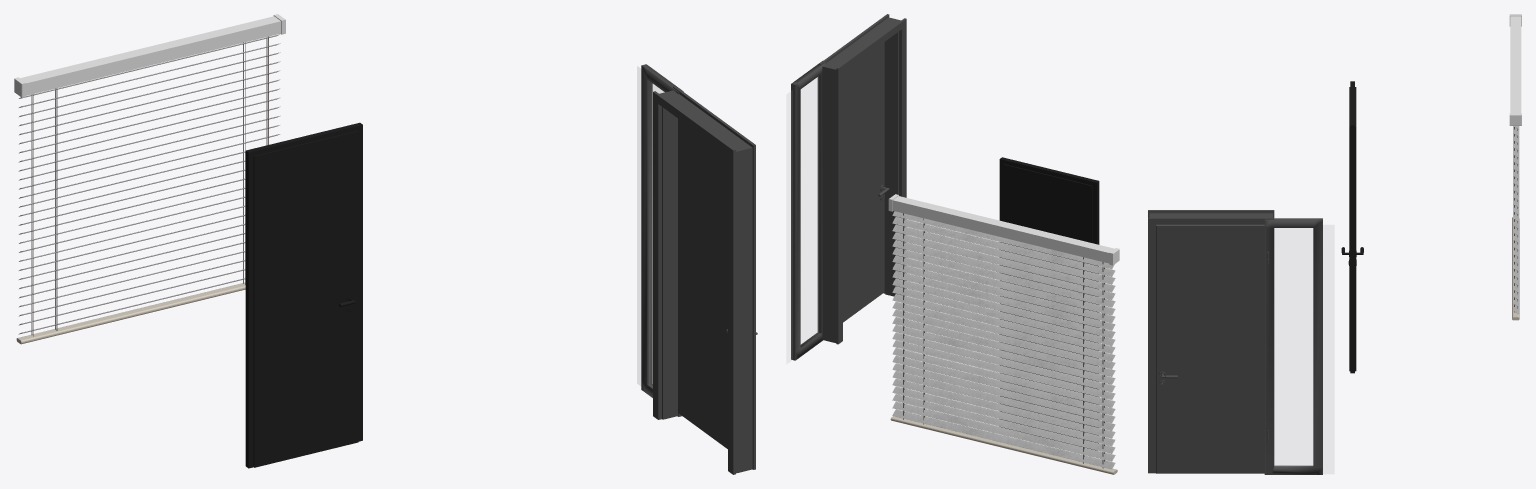
The model's file is EG_Fenster.gltf.
3 views of the same model, side by side, from view 1: azimuth 30°, elevation 25°; view 2: azimuth 150°, elevation 25°; view 3: azimuth 270°, elevation 25° (orthographic). The views are drawn at different scales.
Visible parts, largest first — view 1: Plane.002_Door_0.001, Türblatt.004, defaultMaterial.001, Cut-Office.002, Blockzarge.012, Bad.008, Blockzarge.013, Blockzarge.014; view 2: defaultMaterial.001, Plane.002_Door_0.001, Türblatt.004, Bad.008, Cut-Office.002, Blockzarge.014, Blockzarge.012, Blockzarge.013; view 3: Plane.002_Door_0.001, Bad.008, Cut-Office.002, defaultMaterial.001, Blockzarge.013, Türblatt.004.
Part boxes in pixels (x1,y1,x2,y2): Plane.002_Door_0.001: (653, 86, 757, 474); Türblatt.004: (253, 130, 358, 467); defaultMaterial.001: (14, 14, 285, 344); Cut-Office.002: (641, 64, 683, 416); Blockzarge.012: (245, 149, 253, 468); Bad.008: (637, 66, 662, 385); Blockzarge.013: (355, 122, 362, 441); Blockzarge.014: (251, 124, 357, 155); defaultMaterial.001: (888, 194, 1119, 474); Plane.002_Door_0.001: (819, 14, 906, 344); Türblatt.004: (1003, 164, 1092, 449); Bad.008: (787, 77, 818, 363); Cut-Office.002: (791, 61, 826, 360); Blockzarge.014: (1004, 158, 1094, 185); Blockzarge.012: (1092, 180, 1099, 450); Blockzarge.013: (999, 157, 1005, 427); Plane.002_Door_0.001: (1148, 210, 1274, 473); Bad.008: (1275, 225, 1333, 473); Cut-Office.002: (1264, 218, 1322, 474); defaultMaterial.001: (1509, 14, 1521, 320); Blockzarge.013: (1350, 123, 1354, 373); Türblatt.004: (1349, 87, 1356, 371).
Size of the model in its own units: 4.06 by 2.57 by 3.26.
Materials: 5 (1 with a texture image).
